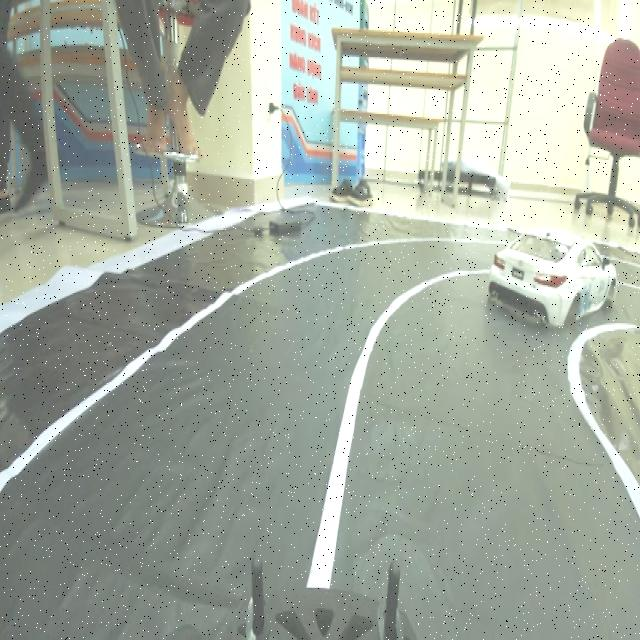car: (487, 202, 613, 338)
